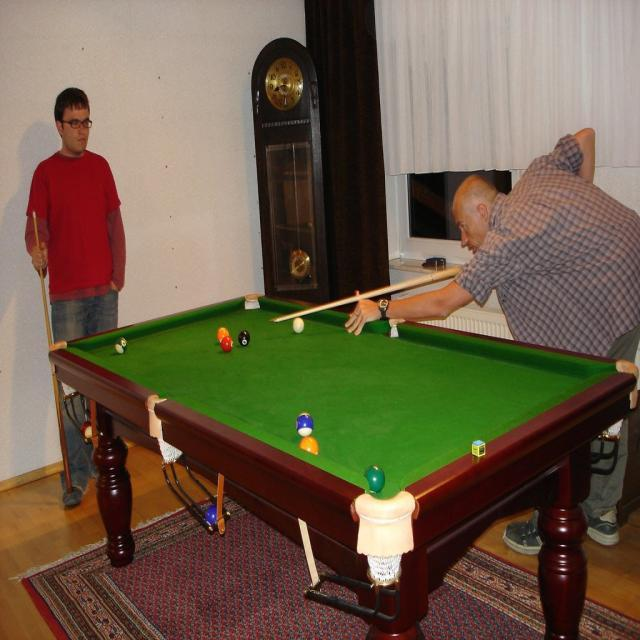Ball: (363, 464, 386, 496), (294, 413, 316, 437), (298, 436, 321, 457), (114, 336, 128, 356), (238, 329, 251, 348), (220, 336, 233, 354), (217, 327, 230, 345)
Billiard table: (48, 293, 639, 511)
